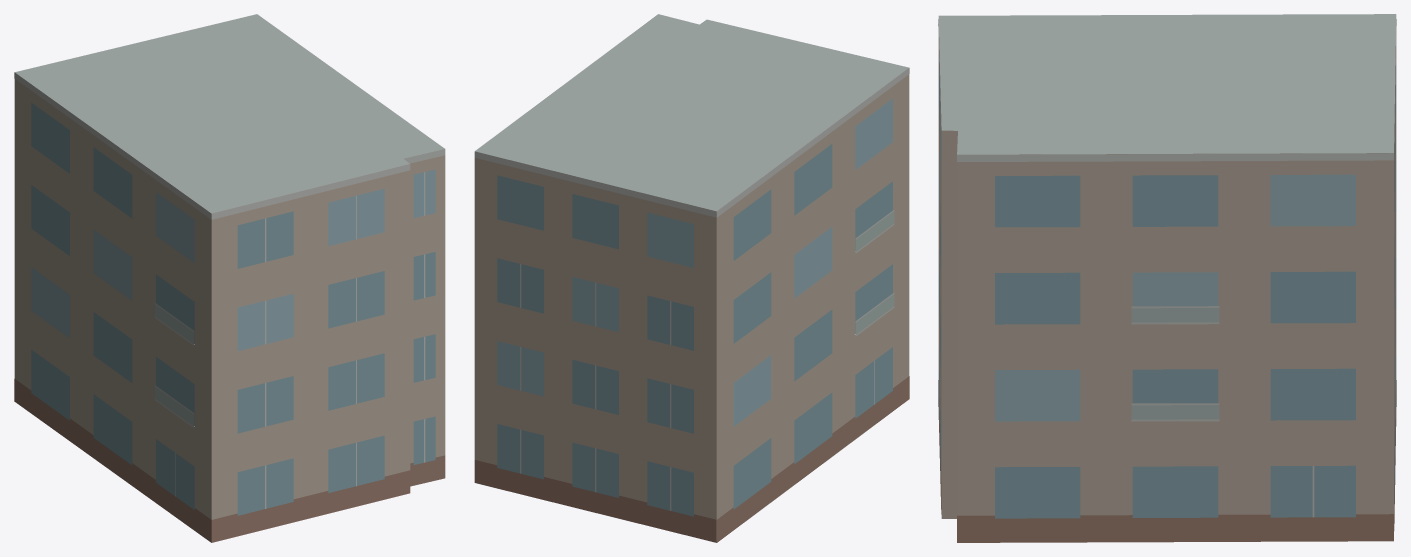
Rendered from survey-upis-32606551.glb.
The picture shows the model from 3 angles, left to right: view 1: azimuth 30°, elevation 25°; view 2: azimuth 150°, elevation 25°; view 3: azimuth 270°, elevation 25°; orthographic projection. The views are drawn at different scales.
Visible parts, largest first — view 1: survey-upis-32606551.tmp; view 2: survey-upis-32606551.tmp; view 3: survey-upis-32606551.tmp.
Boxes of the visible parts, x1,y1,x2,y2 form: survey-upis-32606551.tmp: (14, 14, 445, 542); survey-upis-32606551.tmp: (474, 14, 909, 542); survey-upis-32606551.tmp: (938, 14, 1396, 542).
Bounding box in the file's own units: 9.96 × 12.8 × 13.69.
